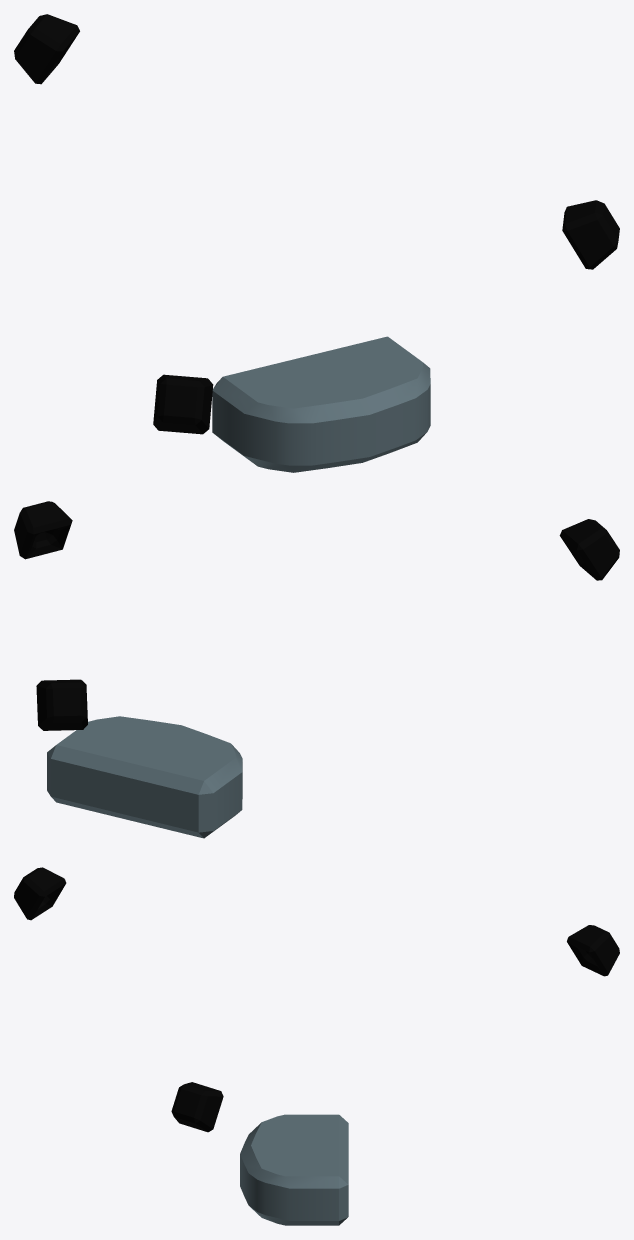
The model's file is stage.gltf.
The picture shows the model from 3 angles, top to bottom: view 1: azimuth 30°, elevation 25°; view 2: azimuth 150°, elevation 25°; view 3: azimuth 270°, elevation 25°; orthographic projection. The views are drawn at different scales.
Visible parts, largest first — view 1: Stage_convex_collider, SpotlightHull_convex_collider.001, SpotlightHull_convex_collider, SpotlightHull_convex_collider.002; view 2: Stage_convex_collider, SpotlightHull_convex_collider.002, SpotlightHull_convex_collider, SpotlightHull_convex_collider.001; view 3: Stage_convex_collider, SpotlightHull_convex_collider, SpotlightHull_convex_collider.002, SpotlightHull_convex_collider.001.
Part boxes in pixels (bbox=[...]): Stage_convex_collider: bbox=[212, 336, 430, 472]; SpotlightHull_convex_collider.001: bbox=[153, 374, 213, 434]; SpotlightHull_convex_collider: bbox=[562, 200, 619, 269]; SpotlightHull_convex_collider.002: bbox=[14, 14, 79, 84]; Stage_convex_collider: bbox=[47, 716, 242, 838]; SpotlightHull_convex_collider.002: bbox=[36, 679, 87, 730]; SpotlightHull_convex_collider: bbox=[14, 501, 72, 559]; SpotlightHull_convex_collider.001: bbox=[559, 519, 619, 580]; Stage_convex_collider: bbox=[240, 1114, 348, 1225]; SpotlightHull_convex_collider: bbox=[171, 1082, 223, 1132]; SpotlightHull_convex_collider.002: bbox=[567, 925, 619, 976]; SpotlightHull_convex_collider.001: bbox=[14, 867, 66, 920].
Bounding box in the file's own units: 11.27 × 5.71 × 13.6.
